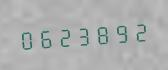eight: (93, 19, 111, 48)
nine: (112, 18, 130, 46)
six: (36, 23, 54, 52)
three: (74, 20, 92, 49)
two: (131, 16, 149, 45), (55, 22, 73, 50)
zero: (17, 24, 35, 53)
